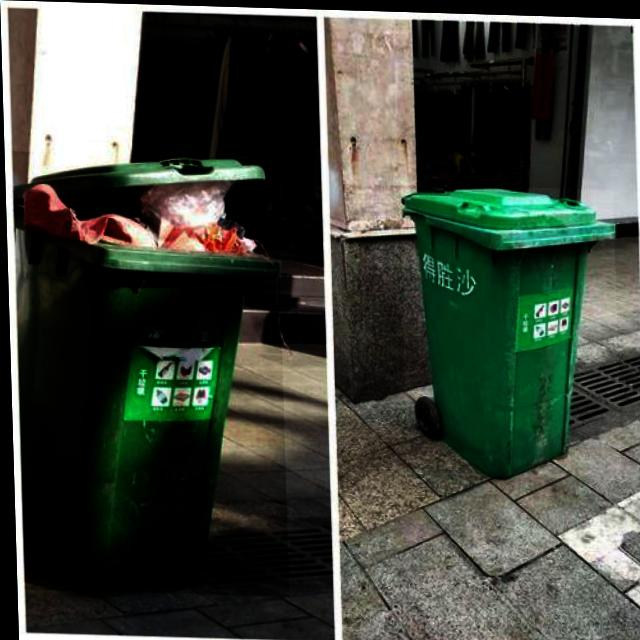garbage_bin: (398, 181, 619, 476)
overflow: (10, 151, 285, 595)
